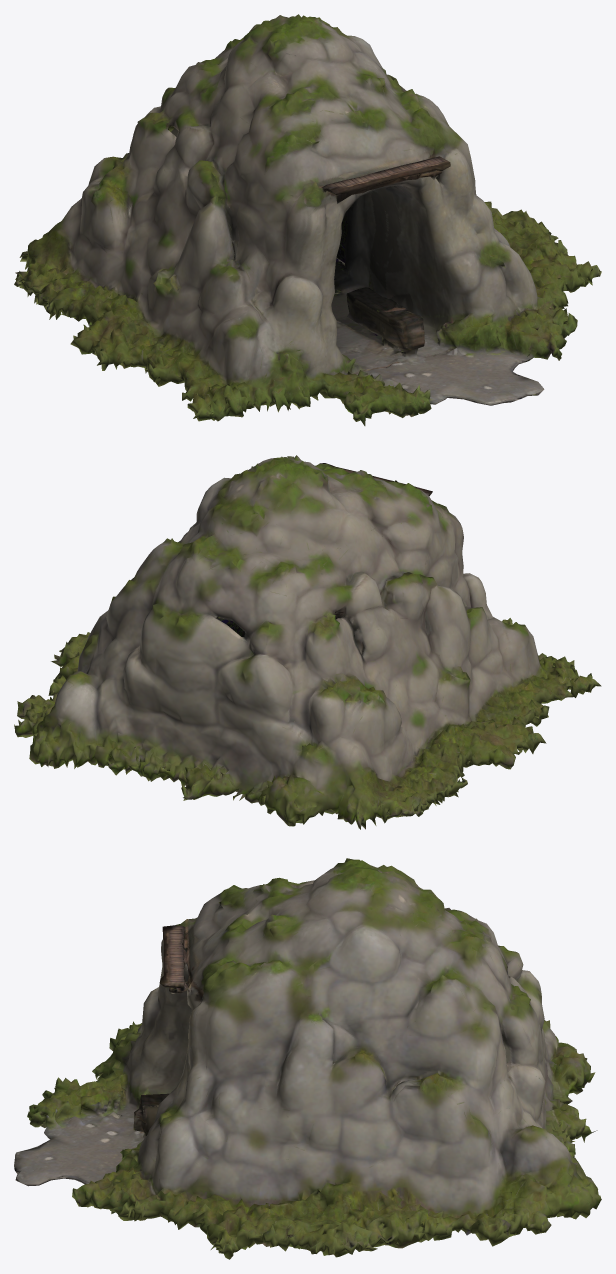
The model's file is Neolithic Mine.fbx.
The picture shows the model from 3 angles, top to bottom: view 1: azimuth 30°, elevation 25°; view 2: azimuth 150°, elevation 25°; view 3: azimuth 270°, elevation 25°; orthographic projection. The views are drawn at different scales.
Parts seen in each view (by area): view 1: Mesh_0; view 2: Mesh_0; view 3: Mesh_0.
Part boxes in pixels (<box>): Mesh_0: <box>14,14,601,425</box>; Mesh_0: <box>14,455,601,829</box>; Mesh_0: <box>14,858,601,1259</box>.
Size of the model in its own units: 191 by 104 by 198.
Materials: 1 (1 with a texture image).
